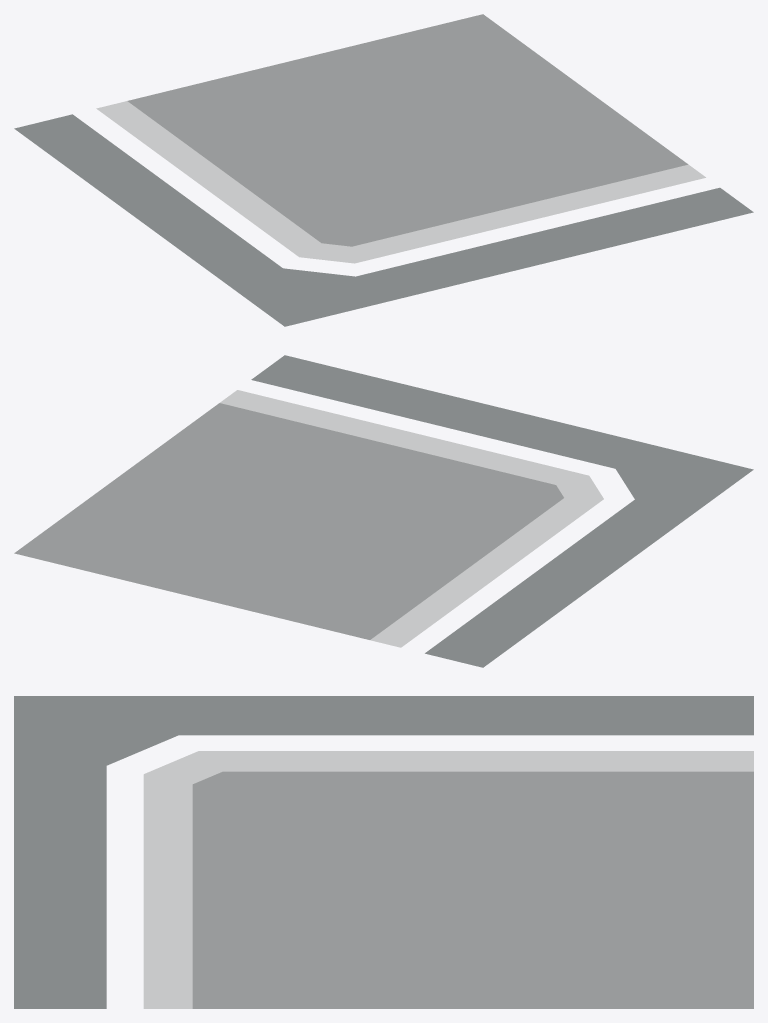
The model's file is Ceiling_type_A_045.glb.
3 renders of one model, top to bottom at view 1: azimuth 30°, elevation 25°; view 2: azimuth 150°, elevation 25°; view 3: azimuth 270°, elevation 25°, orthographic. The views are drawn at different scales.
Visible parts, largest first — view 1: Ceiling_type_A_045; view 2: Ceiling_type_A_045; view 3: Ceiling_type_A_045.
Part boxes in pixels (bbox=[...]): Ceiling_type_A_045: bbox=[14, 14, 753, 326]; Ceiling_type_A_045: bbox=[14, 355, 753, 667]; Ceiling_type_A_045: bbox=[14, 696, 753, 1008].
Bounding box in the file's own units: 4 × 0.035 × 4.
2 materials, 2 textured.
